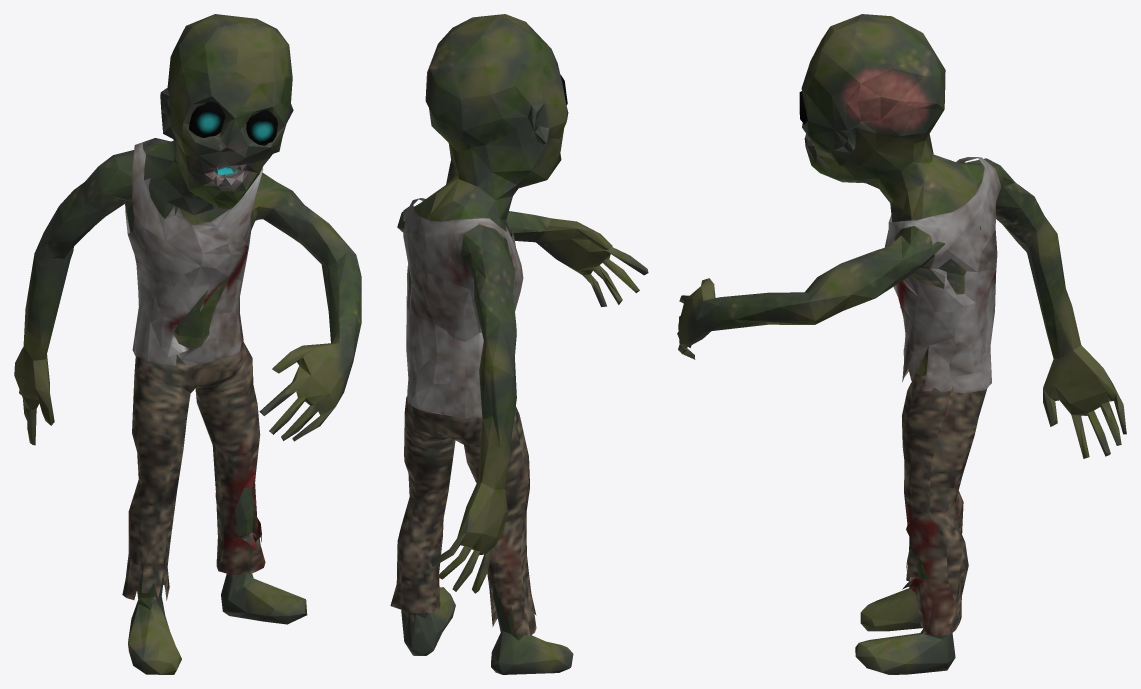
Rendered from zombie_000006.obj.
The picture shows the model from 3 angles, left to right: view 1: azimuth 30°, elevation 25°; view 2: azimuth 150°, elevation 25°; view 3: azimuth 270°, elevation 25°; orthographic projection. The views are drawn at different scales.
Visible parts, largest first — view 1: body_Mesh.001, Object001_Mesh.002, clooth_Mesh; view 2: body_Mesh.001, Object001_Mesh.002, clooth_Mesh; view 3: body_Mesh.001, clooth_Mesh, Object001_Mesh.002.
Part boxes in pixels (x1,y1,x2,y2): body_Mesh.001: (14, 14, 361, 674); Object001_Mesh.002: (122, 338, 265, 600); clooth_Mesh: (125, 138, 263, 366); body_Mesh.001: (397, 14, 648, 674); Object001_Mesh.002: (390, 396, 536, 635); clooth_Mesh: (403, 198, 523, 418); body_Mesh.001: (677, 14, 1126, 674); clooth_Mesh: (884, 157, 1001, 393); Object001_Mesh.002: (902, 372, 987, 635).
Size of the model in its own units: 0.1332 by 0.3956 by 0.2524.
2 materials, 2 textured.
